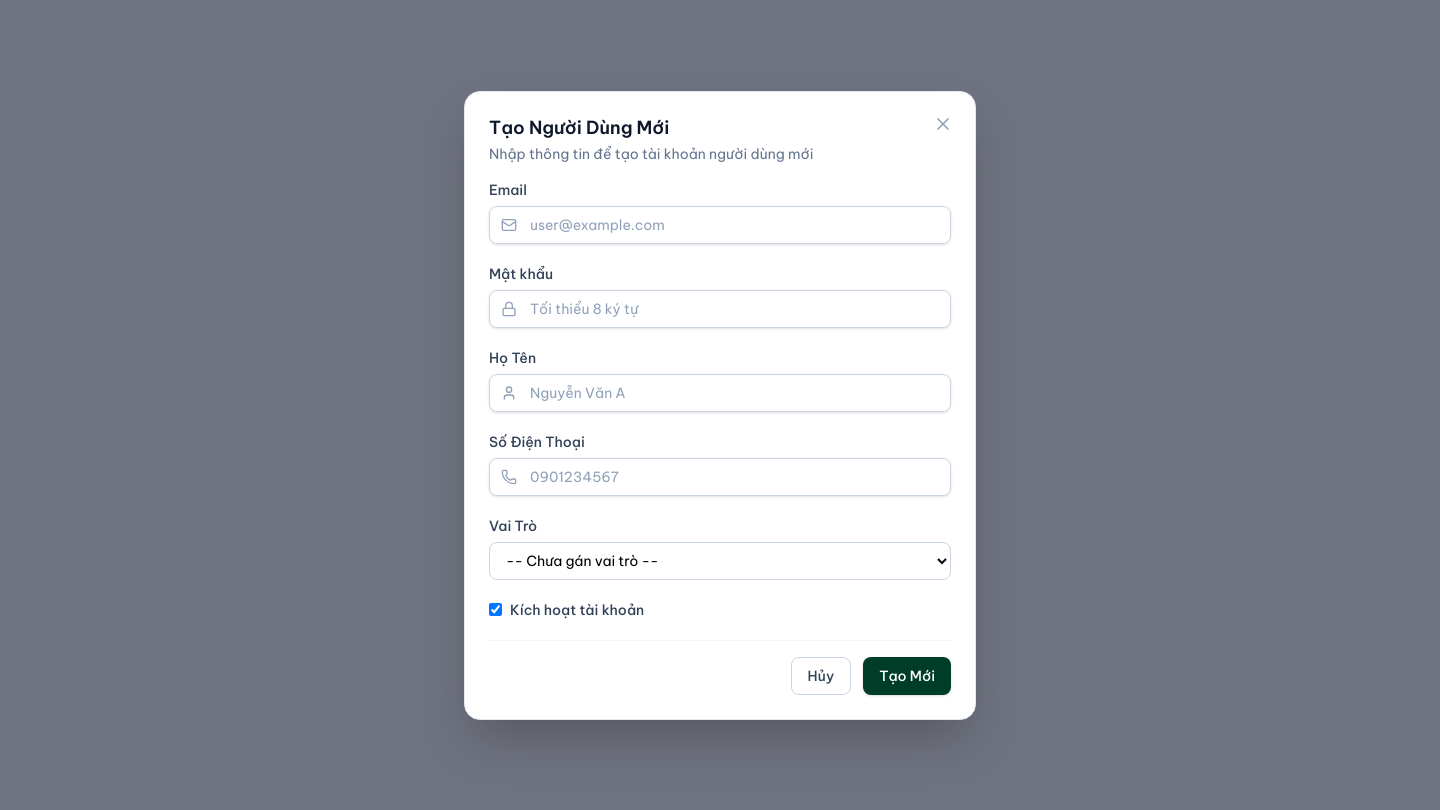
Test case: UserFormModal › shows a validation error when email is invalid
Type "not-an-email" into the field labelled "Email".
click(720, 224); type("not-an-email")  # box [489,206,951,244]
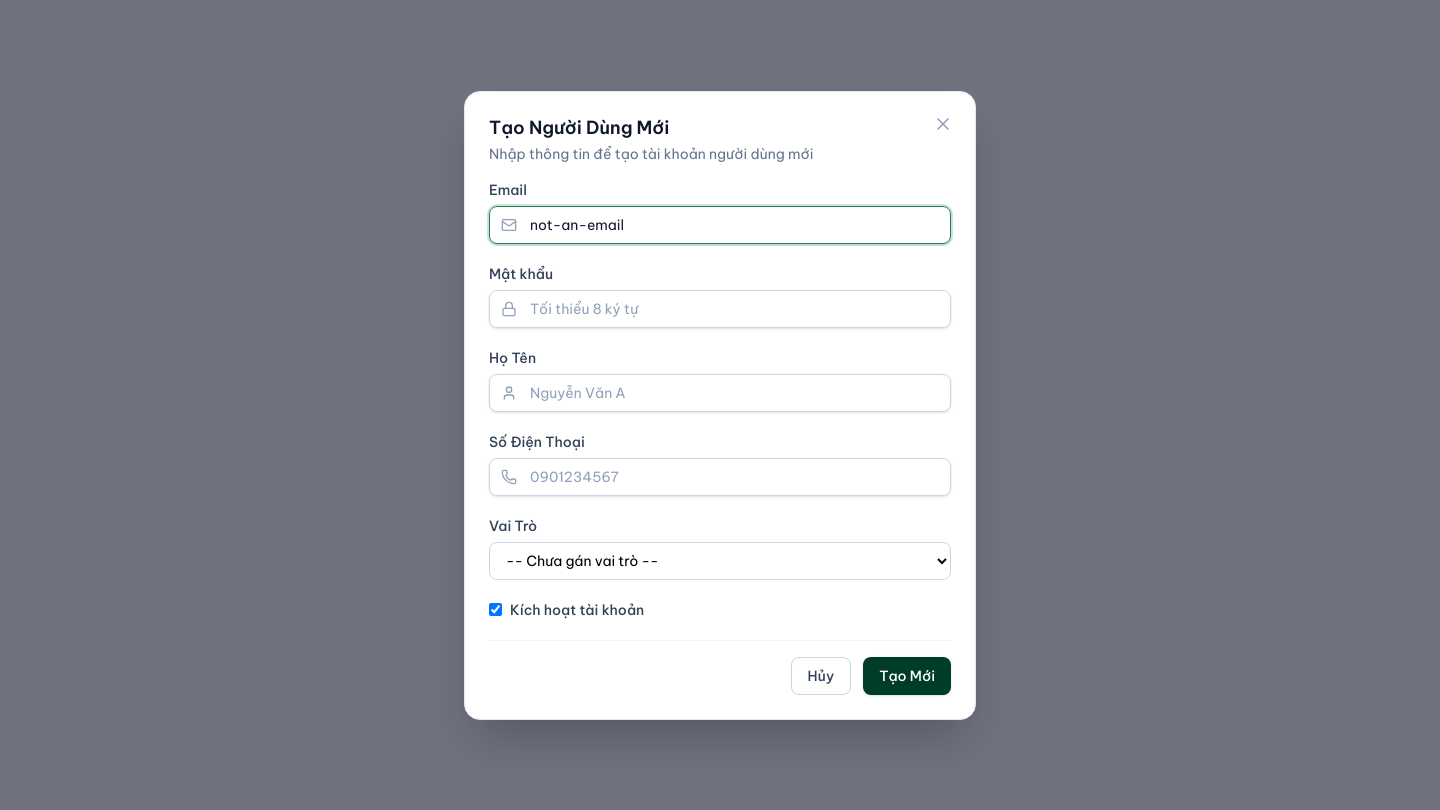
Type "password123" into the password field labelled "Mật khẩu".
click(720, 308); type("password123")  # box [489,290,951,328]
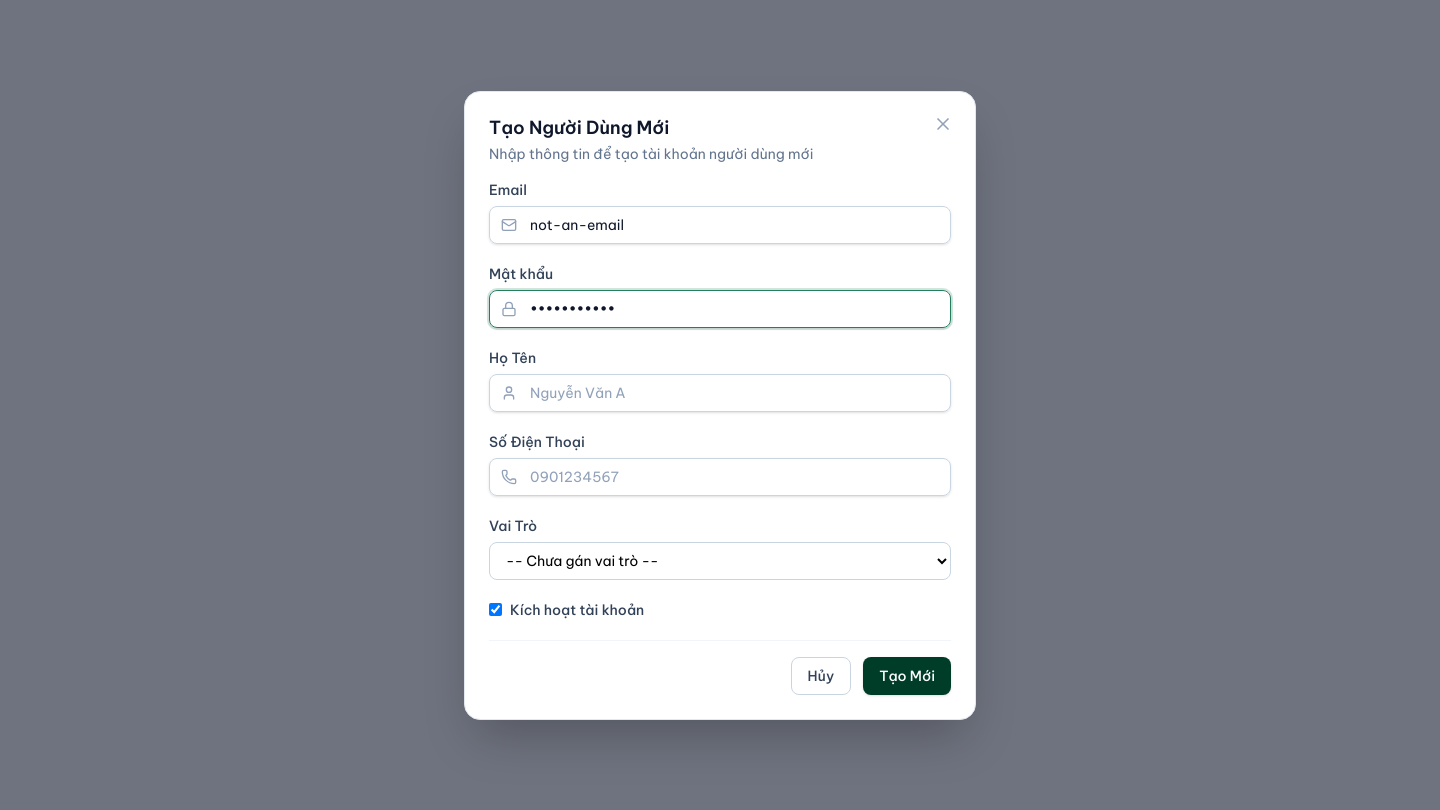
Type "Jane Doe" into the field labelled "Họ Tên".
click(720, 392); type("Jane Doe")  # box [489,374,951,412]
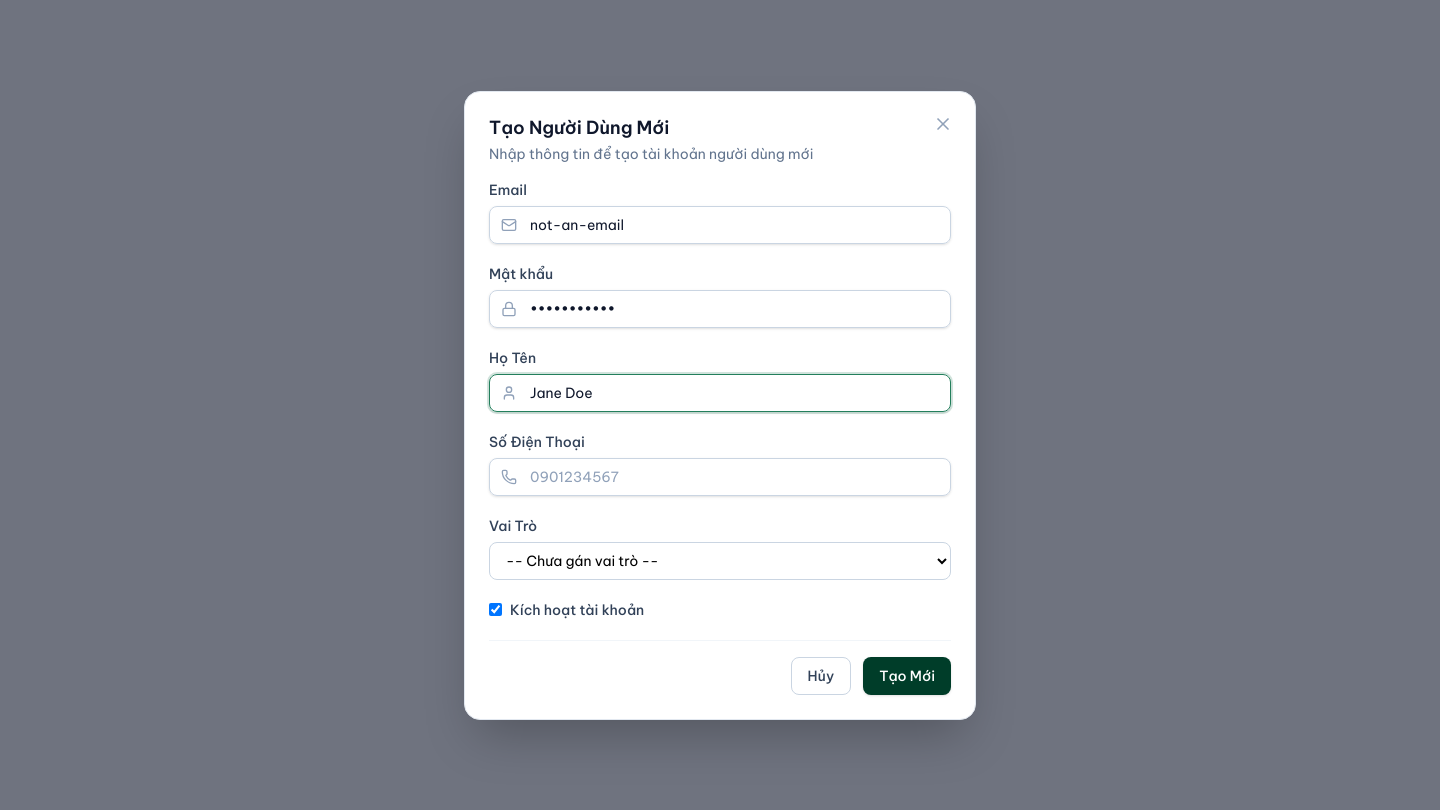
Click the button "Tạo Mới".
click(907, 676)  # box [863,656,951,694]
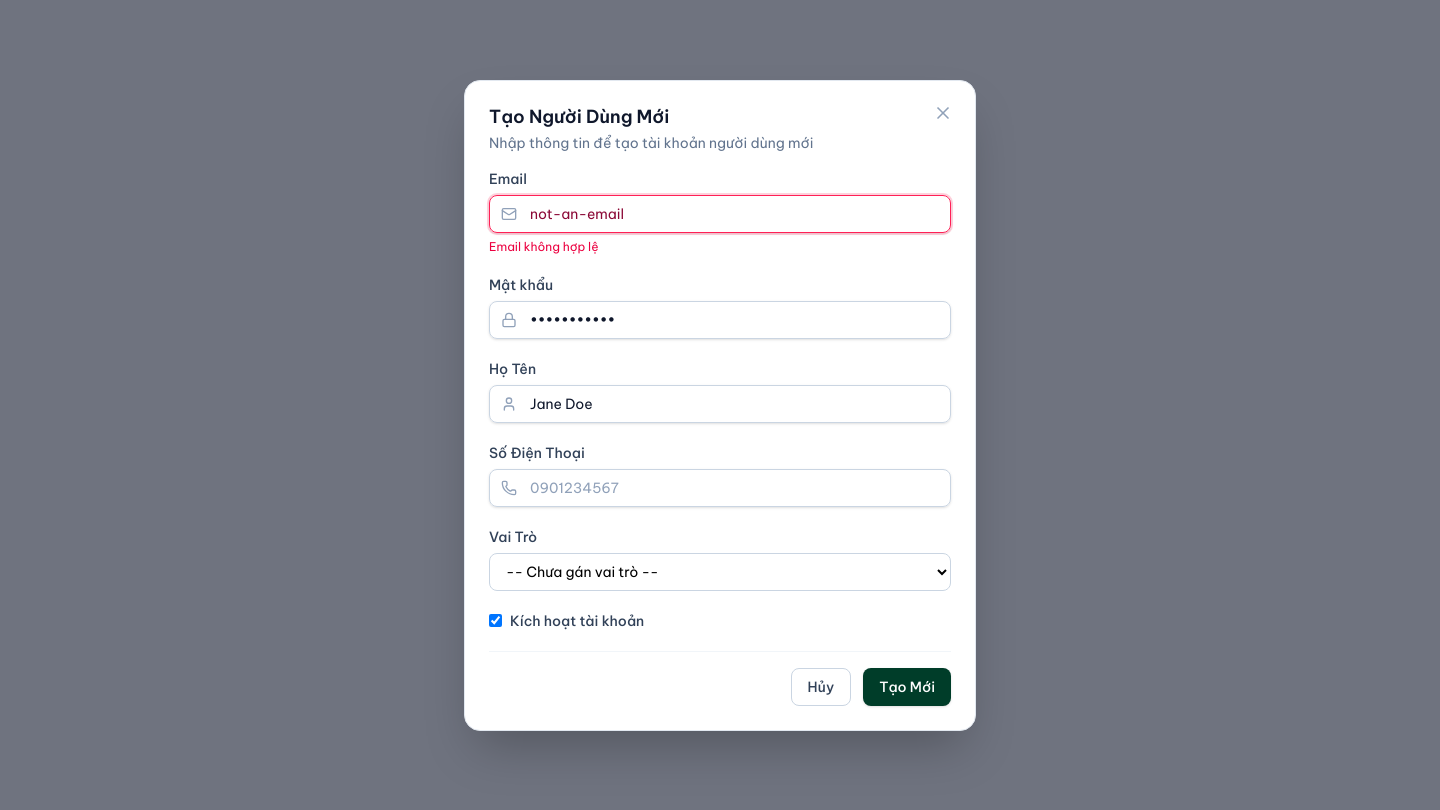
Expected: the text "Email không hợp lệ" is shown, [489,238,598,254]
